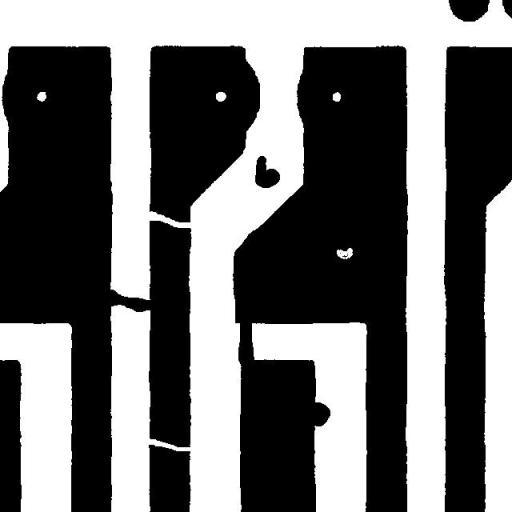copper: (247, 148, 287, 195)
open: (138, 203, 202, 235), (134, 429, 204, 458)
pin-hole: (329, 240, 360, 266)
short: (92, 282, 162, 319), (230, 306, 262, 374)
spur: (300, 394, 338, 434)
